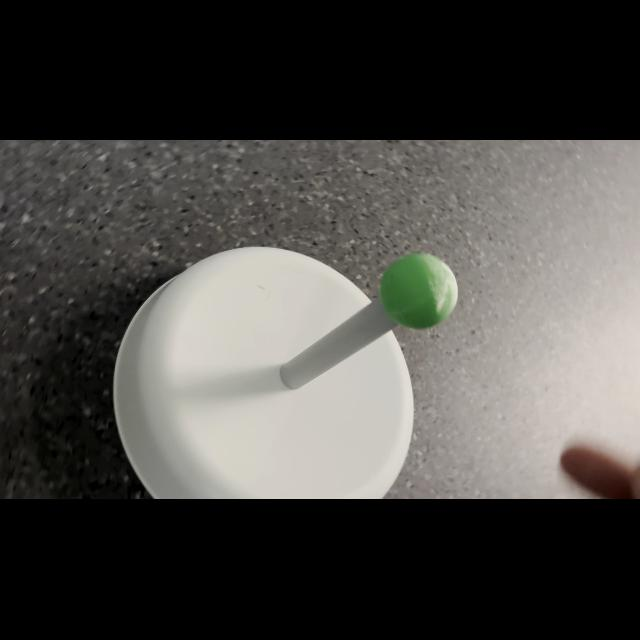objects: (377, 248, 463, 332)
